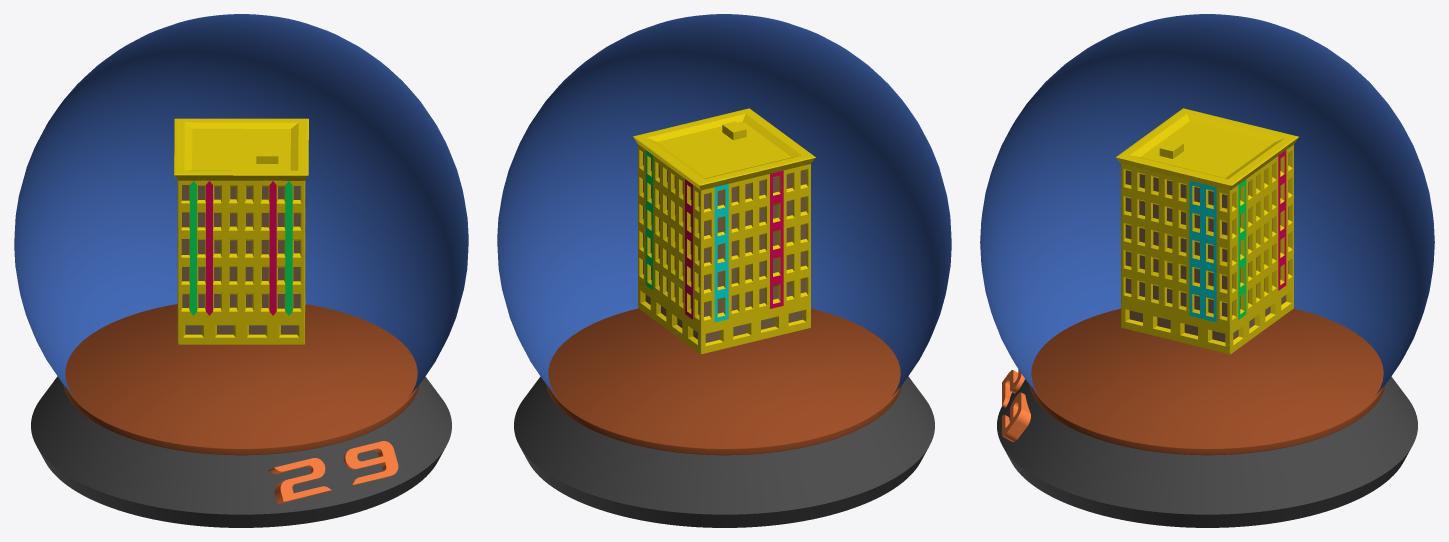
The model's file is Curio_29.glb.
3 renders of one model, left to right at view 1: azimuth 30°, elevation 25°; view 2: azimuth 150°, elevation 25°; view 3: azimuth 270°, elevation 25°, orthographic.
Parts seen in each view (by area): view 1: Sphere.095, Sphere.094, Cylinder.041, Sphere.093, Text.036; view 2: Sphere.095, Sphere.094, Cylinder.041, Sphere.093; view 3: Sphere.095, Sphere.094, Cylinder.041, Sphere.093, Text.036.
Boxes of the visible parts, x1,y1,x2,y2 form: Sphere.095: (14,14,468,397); Sphere.094: (63,304,419,455); Cylinder.041: (174,118,308,344); Sphere.093: (31,376,451,527); Text.036: (267,441,398,504); Sphere.095: (497,14,951,397); Sphere.094: (546,308,902,455); Cylinder.041: (633,108,815,354); Sphere.093: (514,376,934,527); Sphere.095: (980,14,1434,395); Sphere.094: (1029,308,1385,455); Cylinder.041: (1116,108,1298,354); Sphere.093: (997,376,1417,527); Text.036: (1002,369,1030,441).
Bounding box in the file's own units: 4.66 × 4.62 × 4.66.
